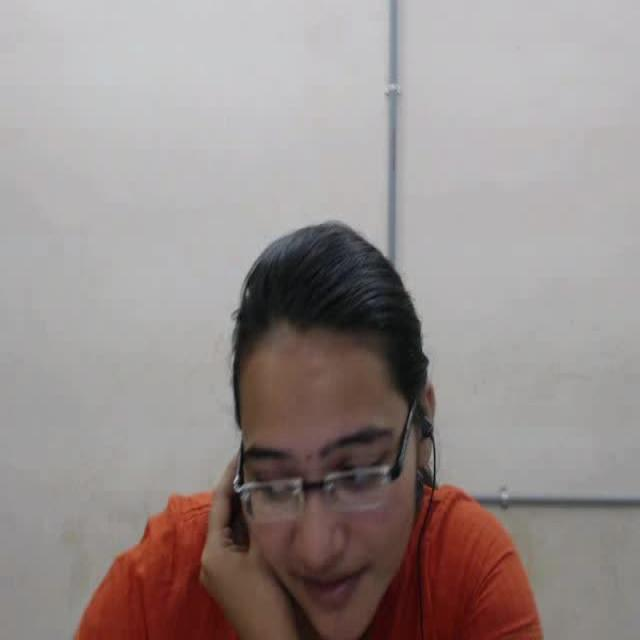Bored: (159, 227, 455, 640)
